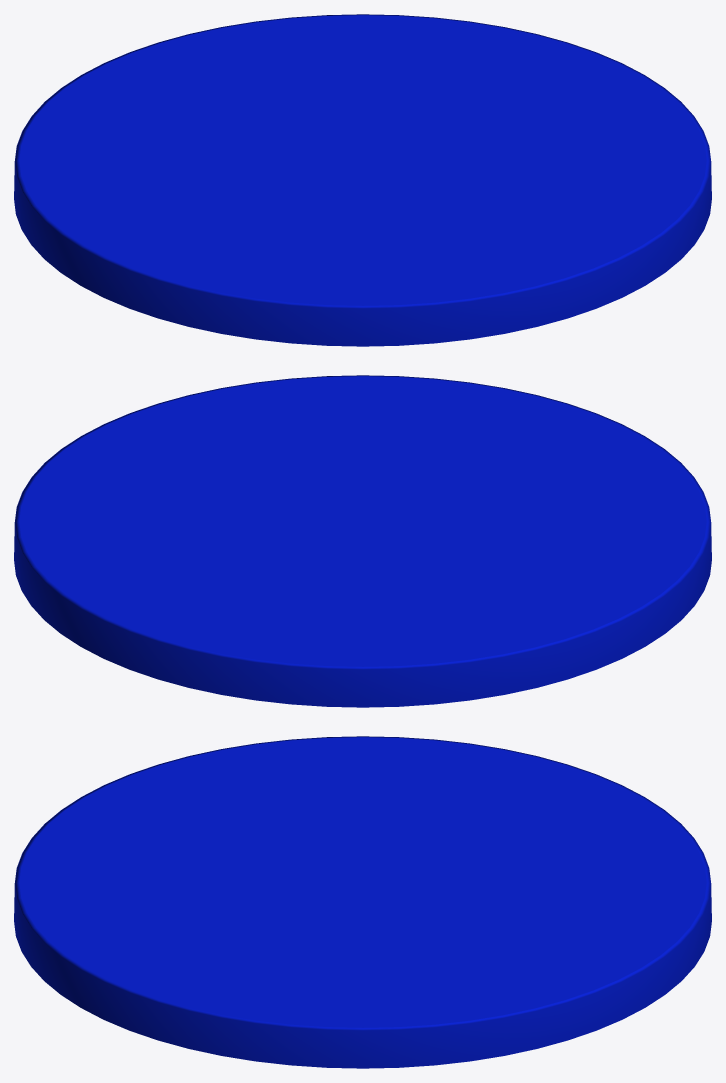
The model's file is Board_Puzzle_Circle_02B.fbx.
3 renders of one model, top to bottom at view 1: azimuth 30°, elevation 25°; view 2: azimuth 150°, elevation 25°; view 3: azimuth 270°, elevation 25°, orthographic.
Parts seen in each view (by area): view 1: Board_Puzzle_Circle_02B; view 2: Board_Puzzle_Circle_02B; view 3: Board_Puzzle_Circle_02B.
Part boxes in pixels (x1,y1,x2,y2): Board_Puzzle_Circle_02B: (14,14,711,346); Board_Puzzle_Circle_02B: (14,375,711,707); Board_Puzzle_Circle_02B: (14,736,711,1068).
Bounding box in the file's own units: 35.79 × 2.18 × 35.79.
